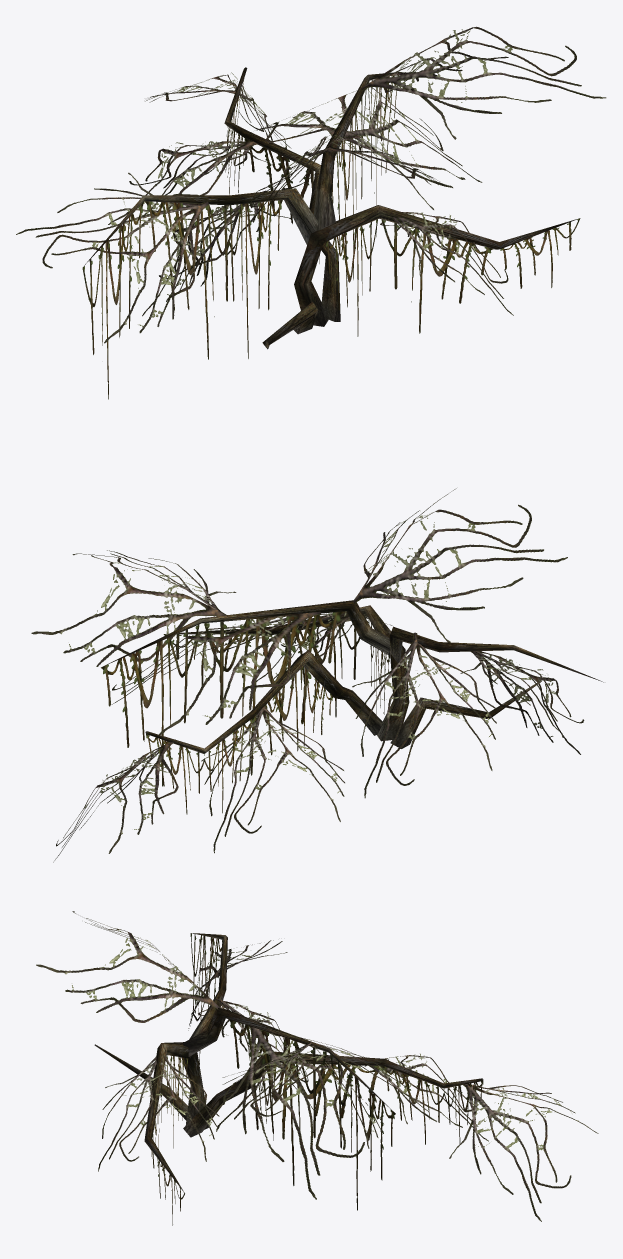
3 renders of one model, top to bottom at view 1: azimuth 30°, elevation 25°; view 2: azimuth 150°, elevation 25°; view 3: azimuth 270°, elevation 25°, orthographic. The views are drawn at different scales.
Parts seen in each view (by area): view 1: wj28; view 2: wj28; view 3: wj28.
Boxes of the visible parts, box(x1,y1,x2,y2) form: wj28: box(16, 26, 606, 399); wj28: box(31, 488, 603, 862); wj28: box(36, 911, 598, 1225).
Bounding box in the file's own units: 2177 × 1109 × 2344.
Materials: 1 (1 with a texture image).
